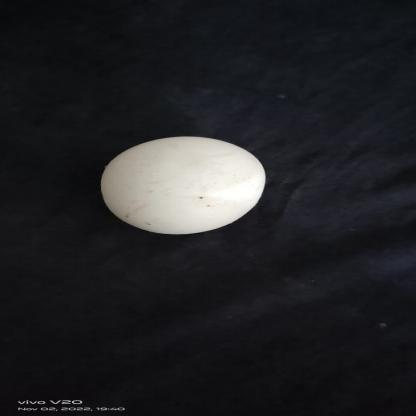egg: (99, 134, 266, 237)
